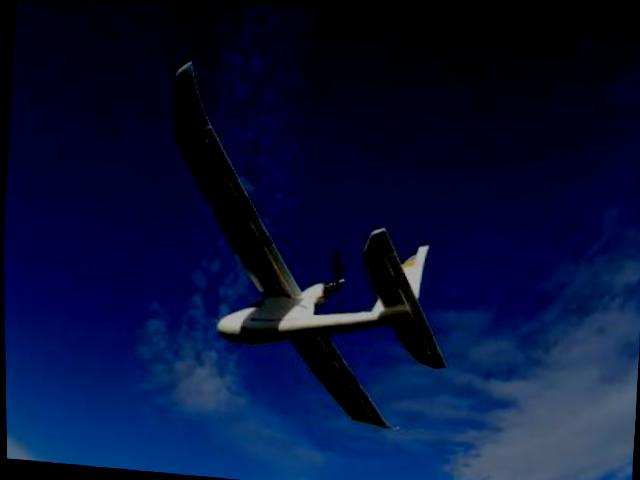uav: (141, 44, 475, 448)
